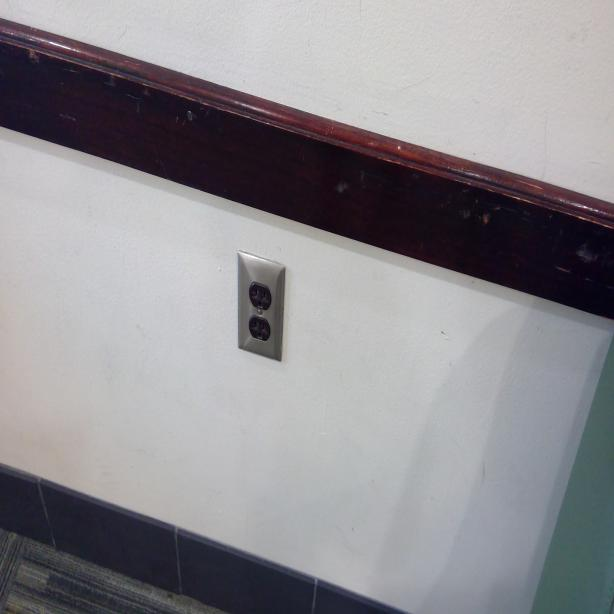typeb: (248, 314, 271, 344), (250, 281, 270, 313)
